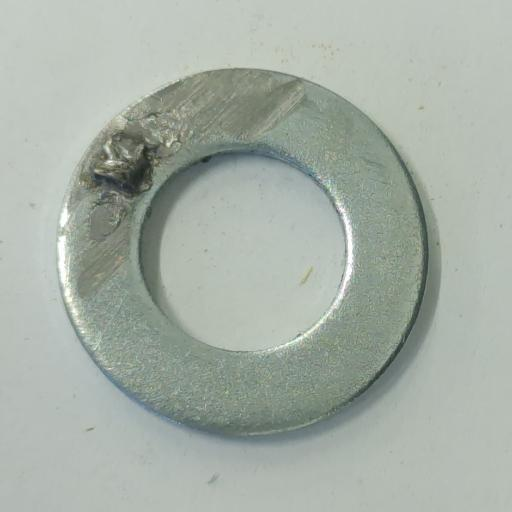excess_material: (93, 134, 153, 200), (90, 203, 121, 241)
